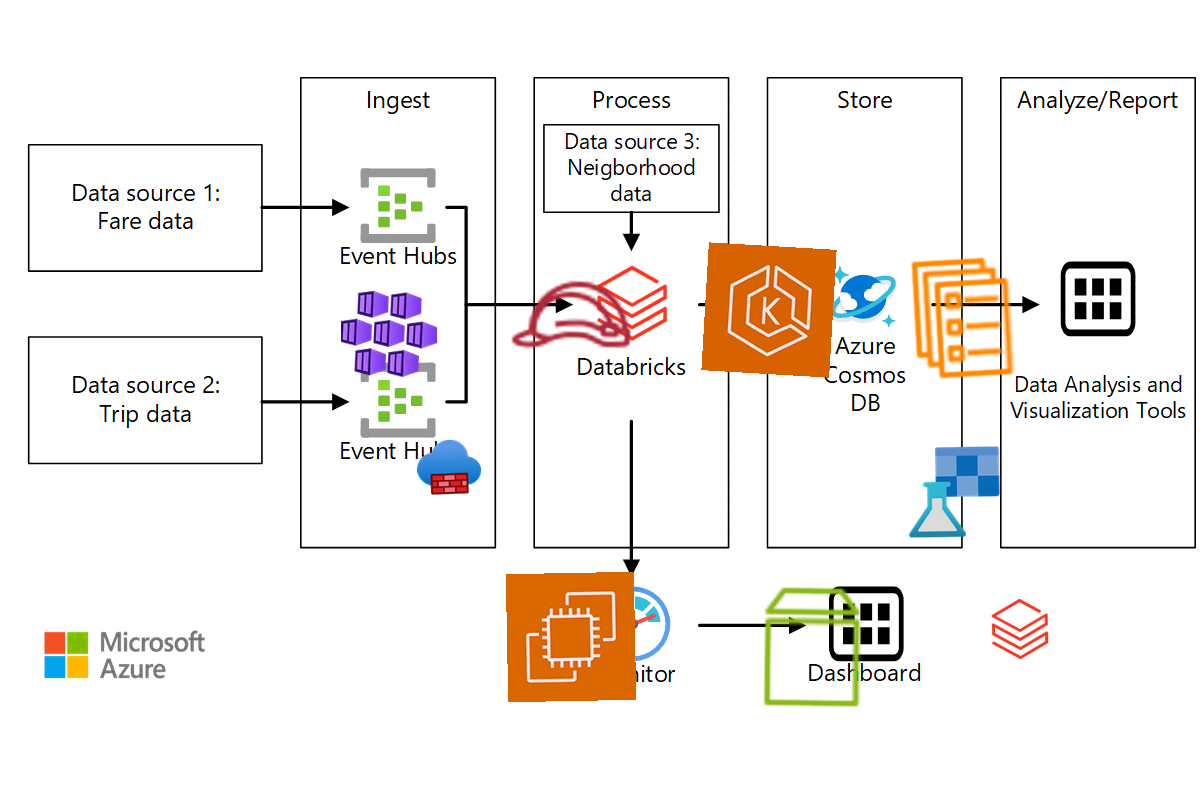aws_amazon_ec2: (505, 571, 637, 703)
aws_amazon_elastic_kubernetes_service: (701, 242, 837, 378)
aws_elastic_block_store_volume: (748, 582, 878, 712)
aws_elastic_container_service_service: (895, 250, 1031, 386)
aws_identity_access_management_role: (505, 249, 639, 383)
azure_databricks: (987, 596, 1053, 662)
azure_firewalls: (415, 433, 483, 501)
azure_kubernetes_services: (339, 283, 439, 383)
azure_machine_learning_studio_workspaces: (905, 443, 1003, 541)
